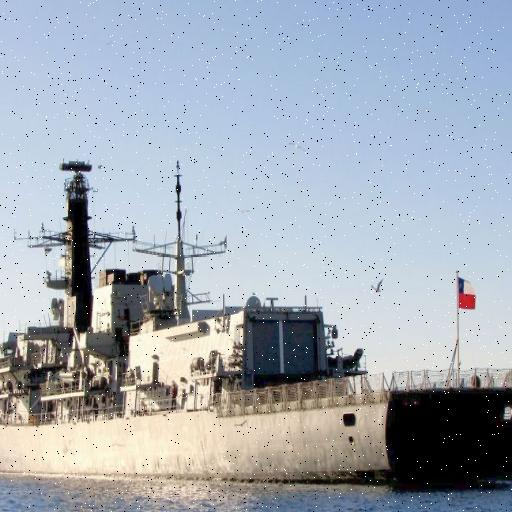Fragata: (1, 160, 512, 496)
